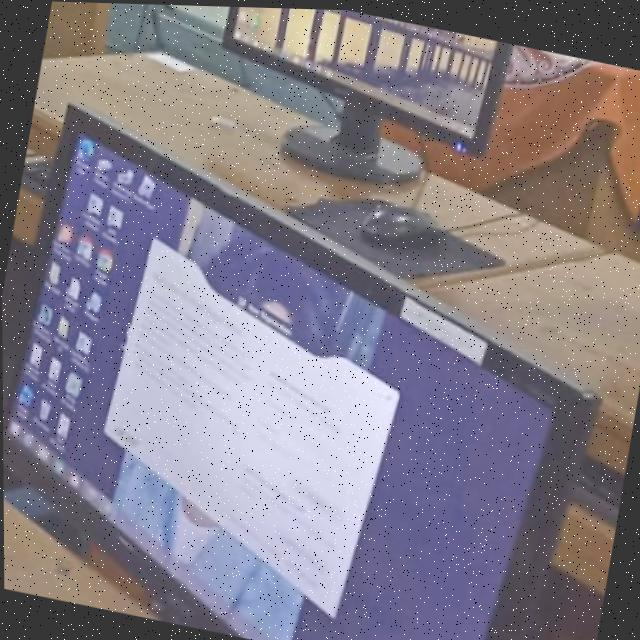onscreen: (3, 105, 595, 640), (223, 5, 512, 151)
